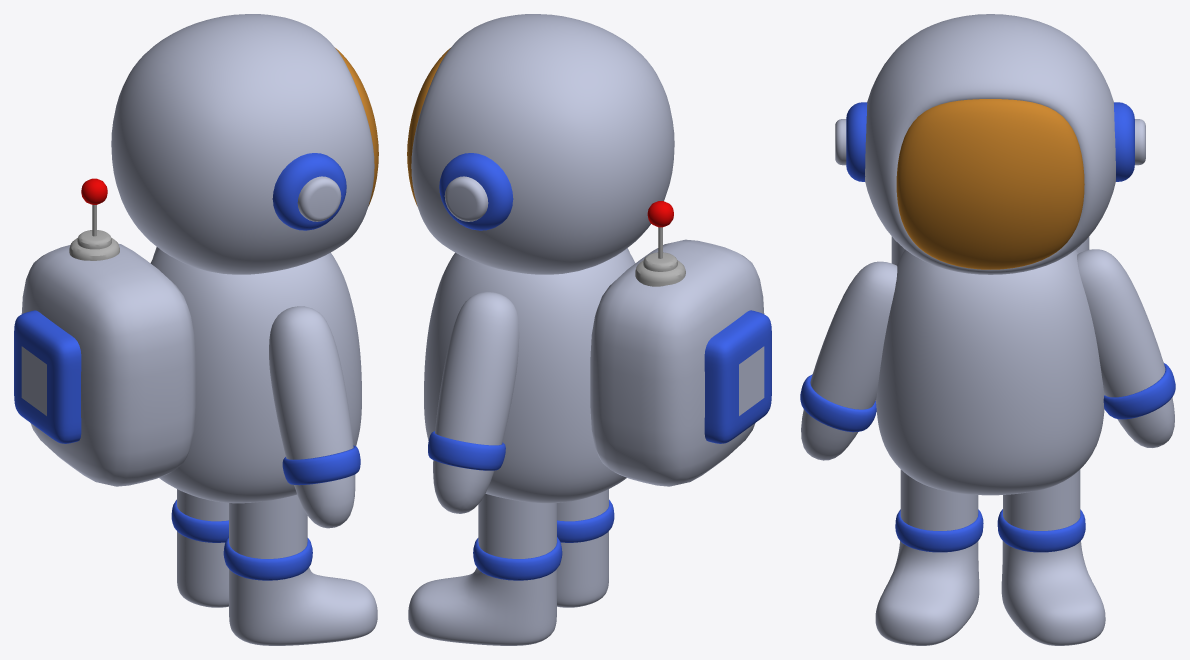
Rendered from astronaut.fbx.
The picture shows the model from 3 angles, left to right: view 1: azimuth 30°, elevation 25°; view 2: azimuth 150°, elevation 25°; view 3: azimuth 270°, elevation 25°; orthographic projection.
Parts seen in each view (by area): view 1: Helmet, Backpack.001, Body, Leg, Arm.001, Backpack, Ears, Circle_Leg, Circle_Arm.001, Antena, Glass_Helmet, Antena_Head; view 2: Helmet, Backpack.001, Body, Leg, Arm, Backpack, Ears, Circle_Leg, Circle_Arm, Antena, Glass_Helmet, Antena_Head; view 3: Body, Helmet, Glass_Helmet, Leg, Arm.001, Arm, Circle_Leg, Ears, Circle_Arm.001, Circle_Arm.
Boxes of the visible parts, x1,y1,x2,y2 form: Helmet: [111, 14, 374, 274]; Backpack.001: [21, 243, 195, 486]; Body: [150, 248, 361, 503]; Leg: [177, 489, 377, 645]; Arm.001: [269, 306, 355, 528]; Backpack: [14, 310, 81, 443]; Ears: [272, 153, 346, 230]; Circle_Leg: [171, 499, 312, 580]; Circle_Arm.001: [282, 445, 360, 485]; Antena: [69, 205, 119, 260]; Glass_Helmet: [335, 48, 378, 206]; Antena_Head: [81, 178, 107, 204]; Helmet: [411, 14, 674, 274]; Backpack.001: [590, 239, 764, 486]; Body: [424, 248, 635, 503]; Leg: [408, 489, 608, 645]; Arm: [433, 292, 519, 513]; Backpack: [704, 310, 771, 443]; Ears: [439, 153, 513, 230]; Circle_Leg: [473, 499, 614, 580]; Circle_Arm: [428, 431, 505, 470]; Antena: [635, 227, 685, 286]; Glass_Helmet: [407, 48, 450, 206]; Antena_Head: [647, 201, 673, 227]; Body: [876, 249, 1104, 495]; Helmet: [865, 14, 1115, 274]; Glass_Helmet: [896, 99, 1084, 269]; Leg: [875, 469, 1105, 645]; Arm.001: [801, 261, 897, 460]; Arm: [1077, 249, 1174, 447]; Circle_Leg: [895, 509, 1085, 552]; Ears: [835, 102, 1145, 181]; Circle_Arm.001: [800, 374, 876, 432]; Circle_Arm: [1103, 363, 1175, 419].
Size of the model in its own units: 152 by 266 by 156.
